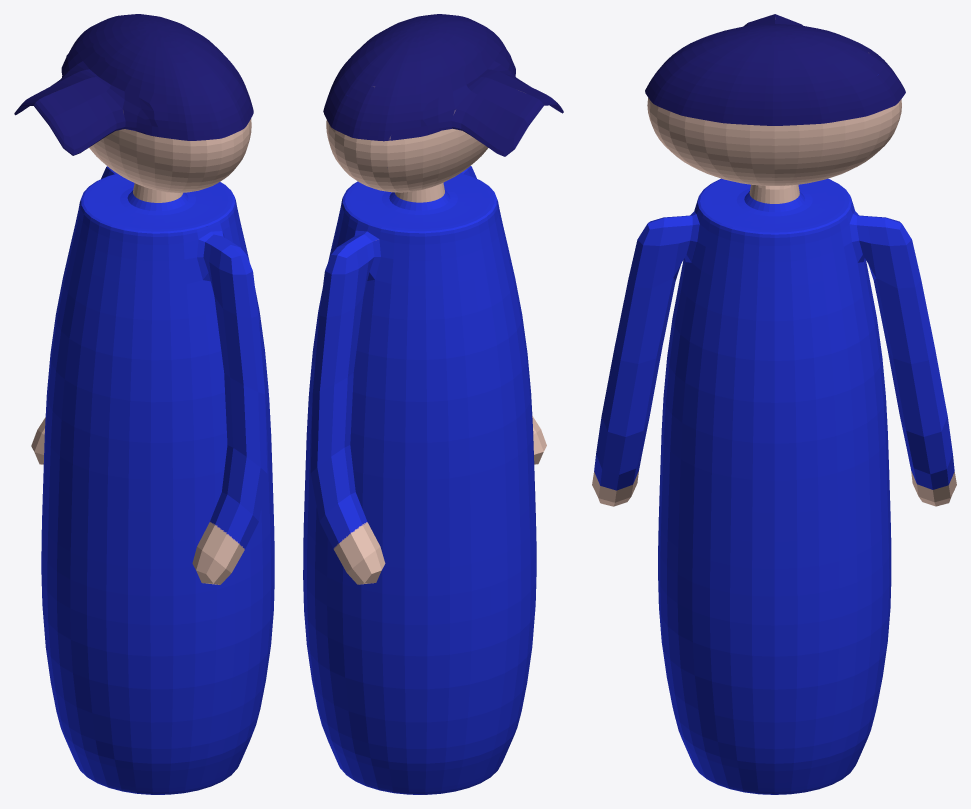
Rendered from hider_standing_body.glb.
The picture shows the model from 3 angles, left to right: view 1: azimuth 30°, elevation 25°; view 2: azimuth 150°, elevation 25°; view 3: azimuth 270°, elevation 25°; orthographic projection.
Parts seen in each view (by area): view 1: hider_standing; view 2: hider_standing; view 3: hider_standing.
Boxes of the visible parts, x1=… form: hider_standing: x1=14, y1=14, x2=274, y2=794; hider_standing: x1=303, y1=14, x2=563, y2=794; hider_standing: x1=592, y1=14, x2=956, y2=794.
Bounding box in the file's own units: 0.7964 × 2.47 × 1.12.
1 material, 1 textured.
